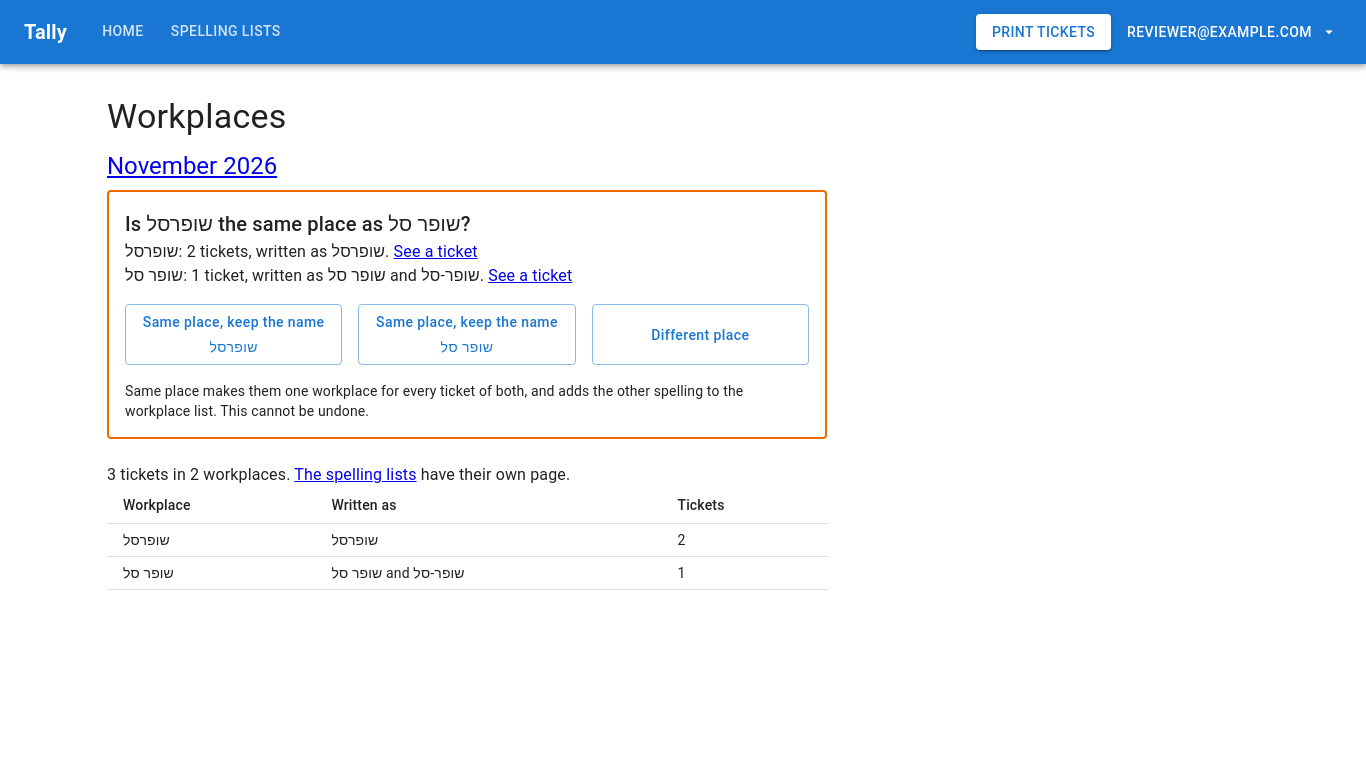
Test: the Workplaces page › sends "different place" with one click, asks for the month again and moves the focus on
The width and height of the screenshot is (1366, 768).
Click the button "Different place".
click(700, 335)  # box [592,304,809,365]
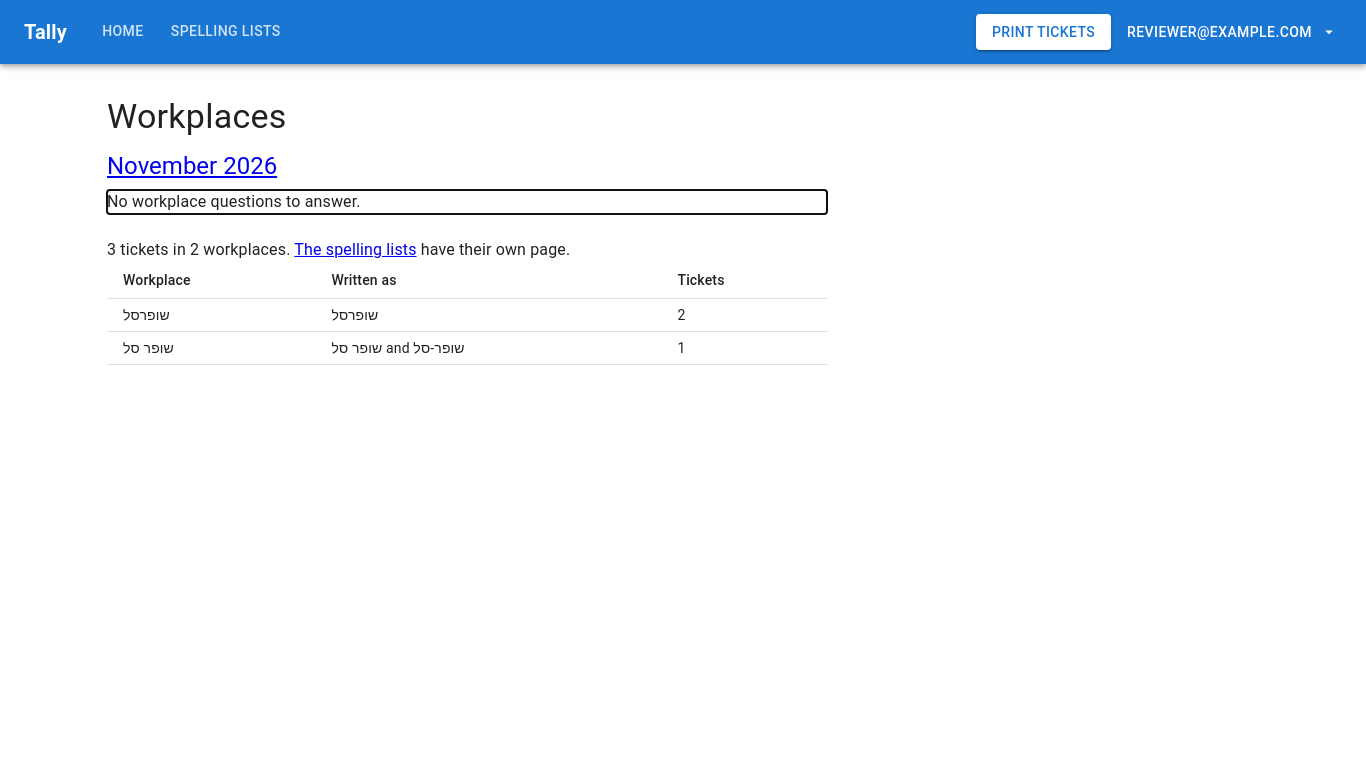
Expected: the text "No workplace questions to answer." is shown, [107,192,361,211]
